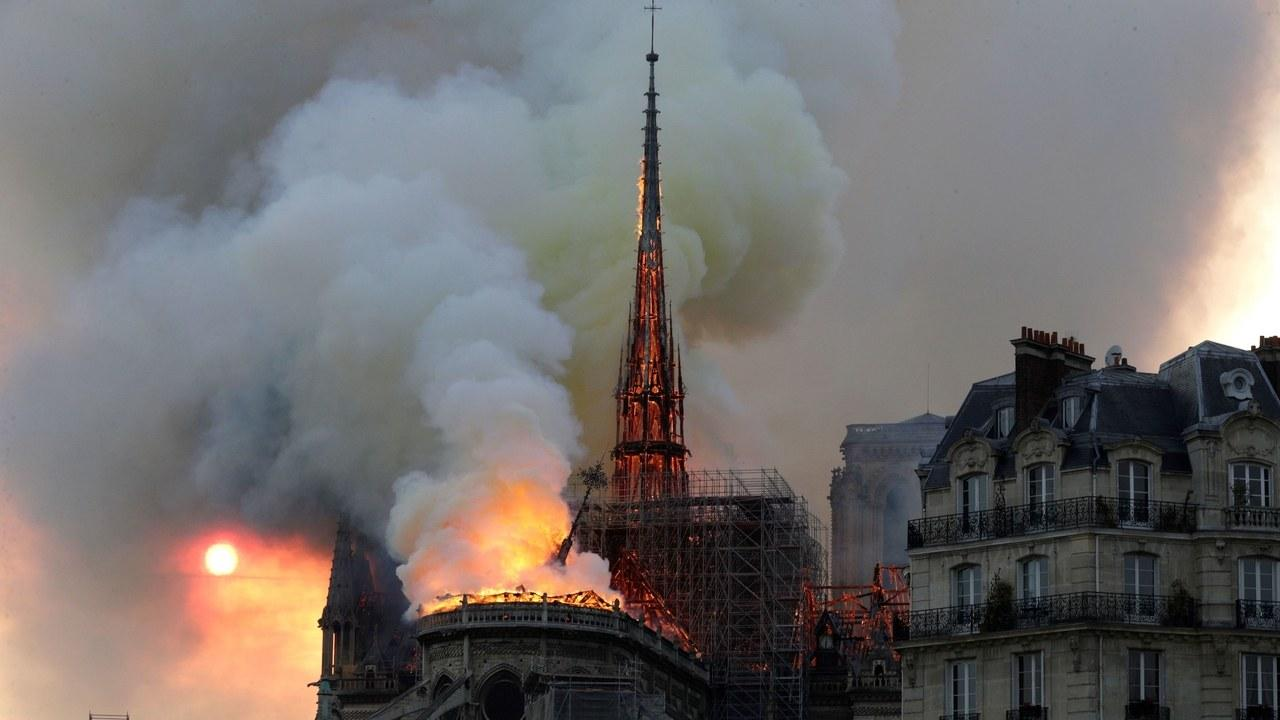fire: (421, 587, 616, 615)
smoke: (0, 6, 620, 476), (671, 0, 1259, 355), (0, 478, 382, 554), (15, 556, 189, 712), (383, 476, 567, 588), (684, 356, 854, 468), (867, 475, 918, 562), (567, 547, 615, 588)
